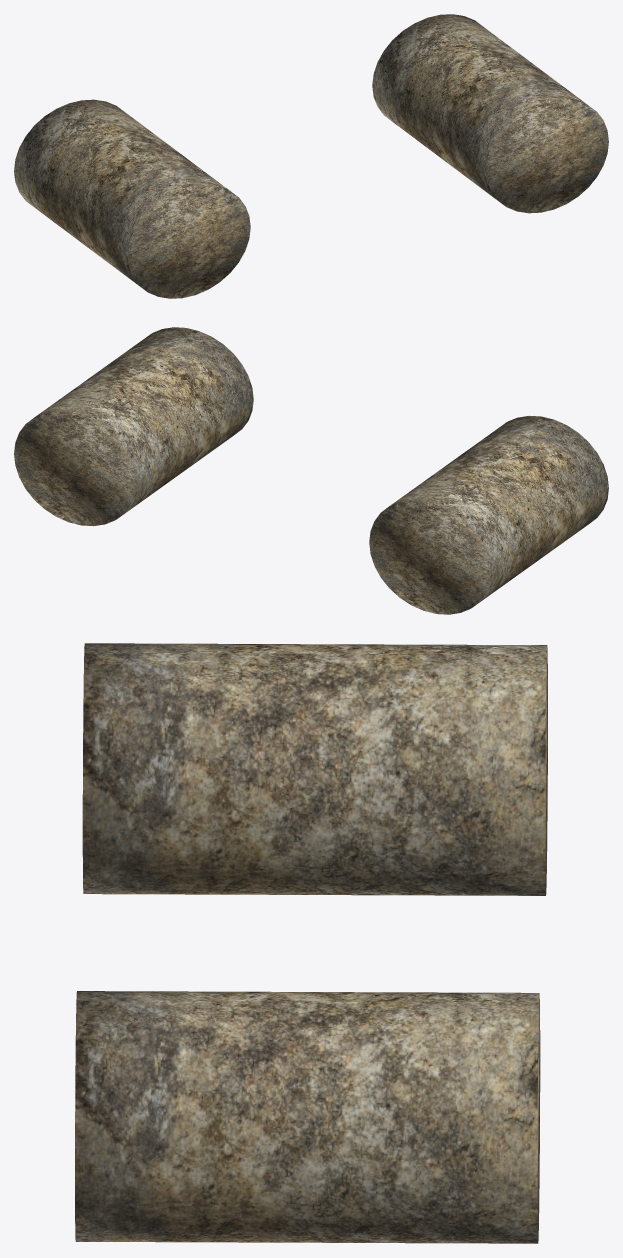
Rendered from Ruedas.obj.
3 renders of one model, top to bottom at view 1: azimuth 30°, elevation 25°; view 2: azimuth 150°, elevation 25°; view 3: azimuth 270°, elevation 25°, orthographic. The views are drawn at different scales.
Parts seen in each view (by area): view 1: Cylinder004.001, Cylinder001.001; view 2: Cylinder004.001, Cylinder001.001; view 3: Cylinder004.001, Cylinder001.001.
Part boxes in pixels (x1=…): Cylinder004.001: x1=14, y1=99, x2=250, y2=298; Cylinder001.001: x1=372, y1=14, x2=608, y2=213; Cylinder004.001: x1=369, y1=415, x2=608, y2=614; Cylinder001.001: x1=14, y1=327, x2=253, y2=526; Cylinder004.001: x1=82, y1=643, x2=547, y2=895; Cylinder001.001: x1=75, y1=991, x2=540, y2=1243.
Size of the model in its own units: 48.11 by 10.5 by 20.51.
1 material, 1 textured.
